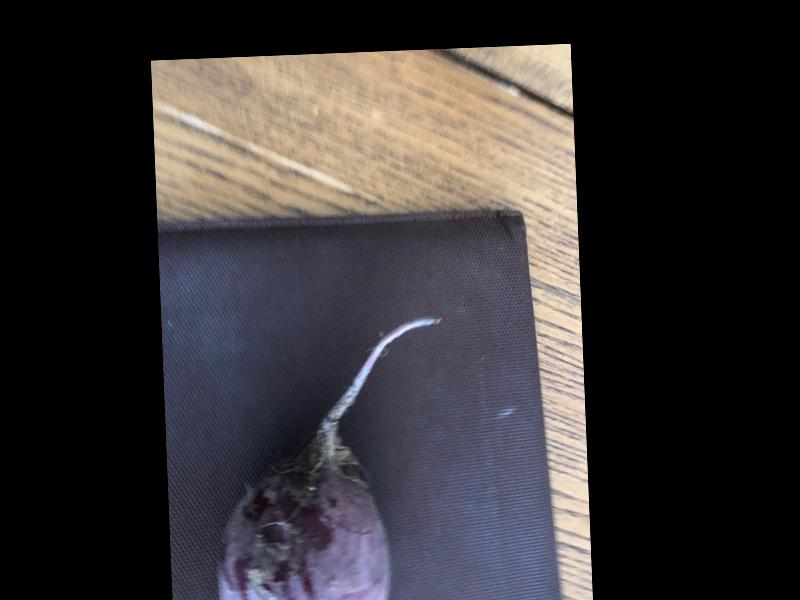Beet: (208, 316, 450, 600)
